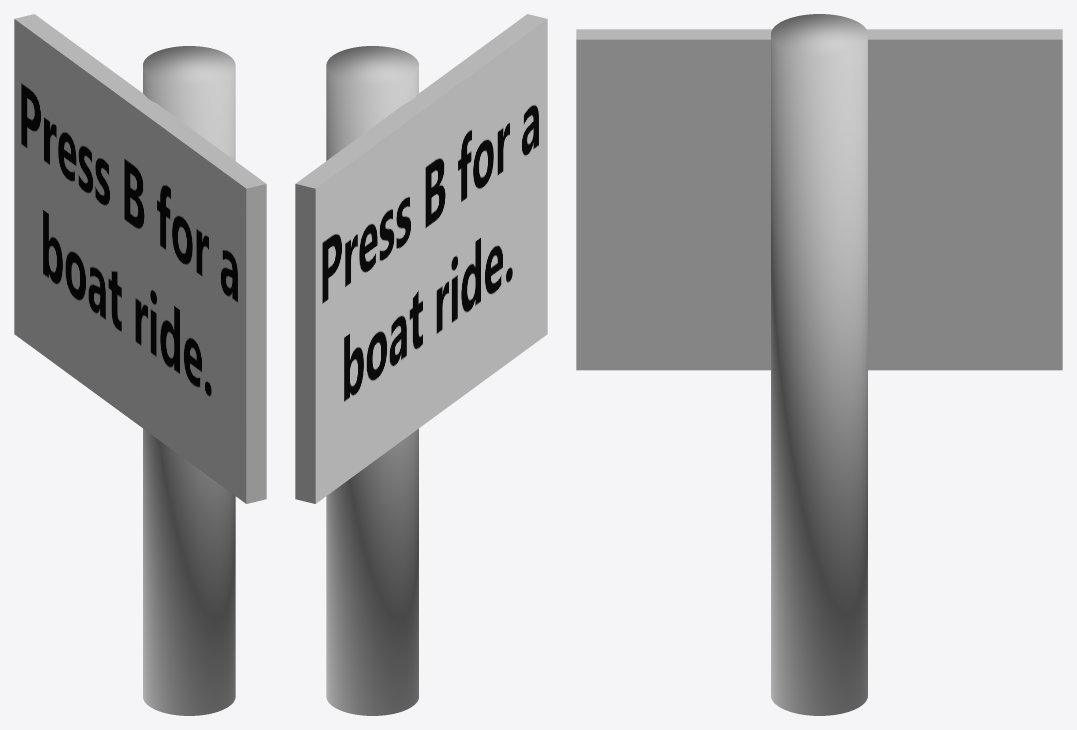
Rendered from BoatSign.fbx.
The picture shows the model from 3 angles, left to right: view 1: azimuth 30°, elevation 25°; view 2: azimuth 150°, elevation 25°; view 3: azimuth 270°, elevation 25°; orthographic projection. The views are drawn at different scales.
Parts seen in each view (by area): view 1: Cube, Cylinder; view 2: Cube, Cylinder; view 3: Cube, Cylinder.
Boxes of the visible parts, x1,y1,x2,y2 form: Cube: [14, 14, 266, 503]; Cylinder: [143, 46, 235, 715]; Cube: [295, 14, 547, 503]; Cylinder: [326, 46, 418, 715]; Cube: [576, 29, 1062, 370]; Cylinder: [771, 14, 867, 715].
Bounding box in the file's own units: 49.28 × 300 × 200.
